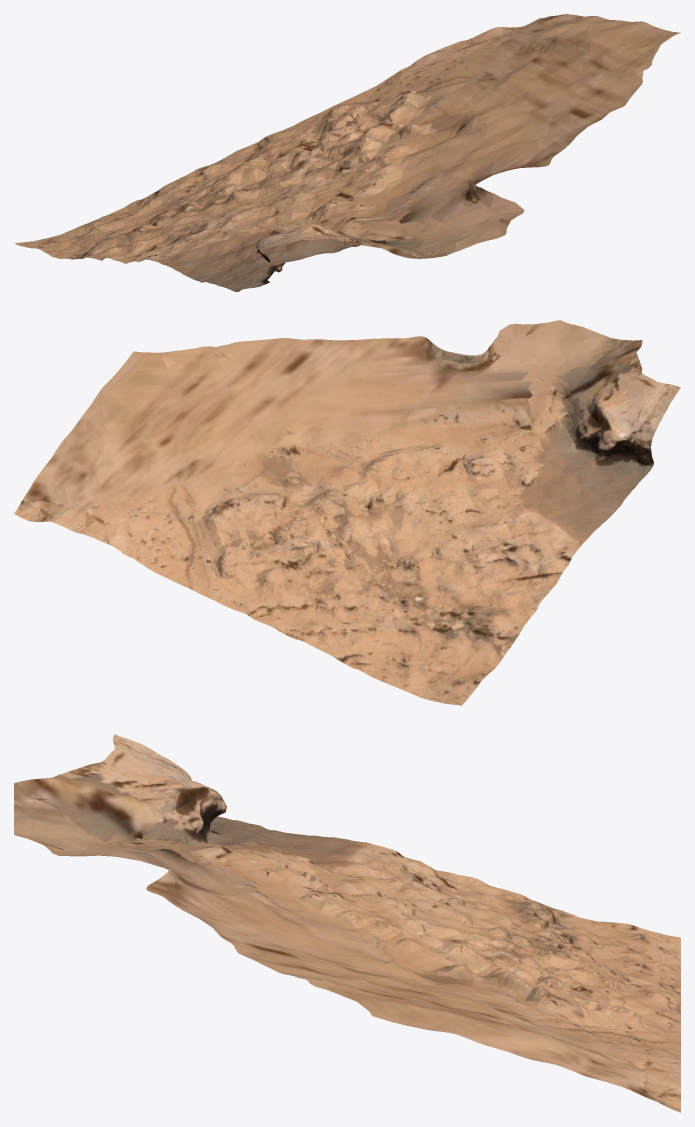
3 renders of one model, top to bottom at view 1: azimuth 30°, elevation 25°; view 2: azimuth 150°, elevation 25°; view 3: azimuth 270°, elevation 25°, orthographic. The views are drawn at different scales.
Bounding box in the file's own units: 1.04 × 0.3568 × 1.04.
2 materials, 2 textured.
